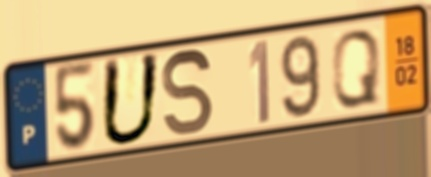1: (247, 36, 271, 128)
5: (51, 58, 97, 158)
9: (275, 32, 323, 121)
Q: (329, 26, 383, 111)
S: (159, 46, 216, 139)
U: (98, 50, 164, 150)
